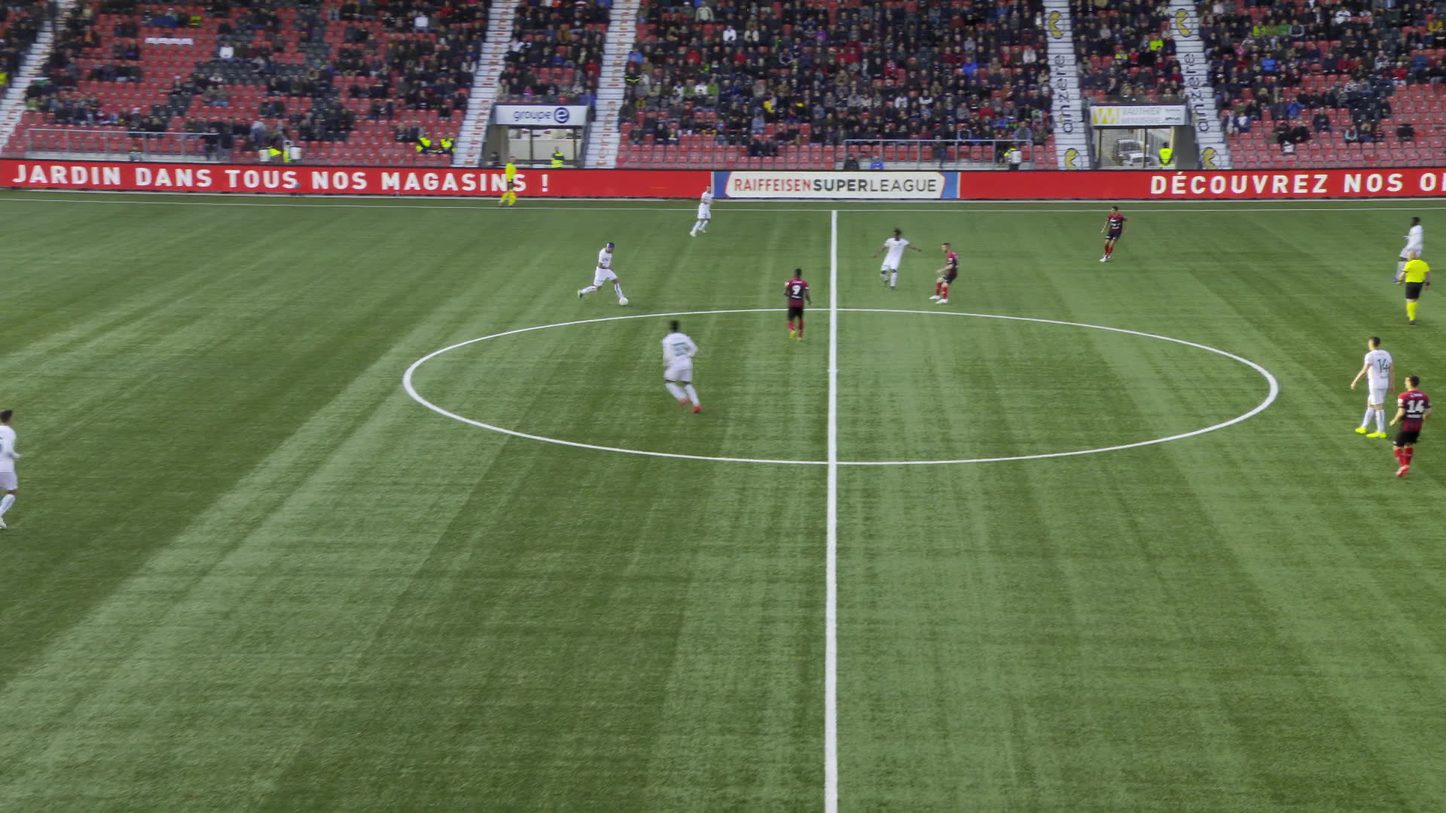ball: (618, 297, 627, 306)
player: (0, 410, 38, 527), (1353, 335, 1396, 436), (667, 321, 715, 411), (1391, 378, 1423, 466), (880, 226, 925, 288), (787, 269, 814, 344), (584, 242, 616, 302), (934, 242, 965, 303), (1097, 206, 1131, 260), (1404, 217, 1430, 268), (696, 185, 718, 236)
referee: (1402, 248, 1434, 322), (503, 155, 521, 206)
